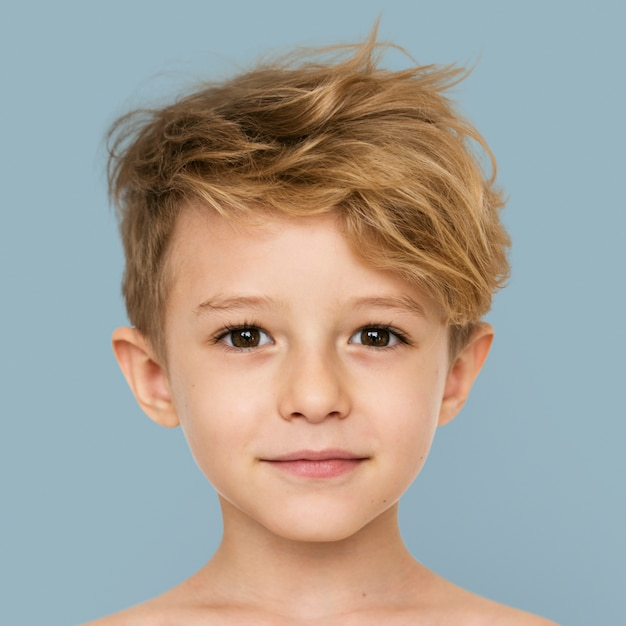teen: (116, 65, 504, 535)
